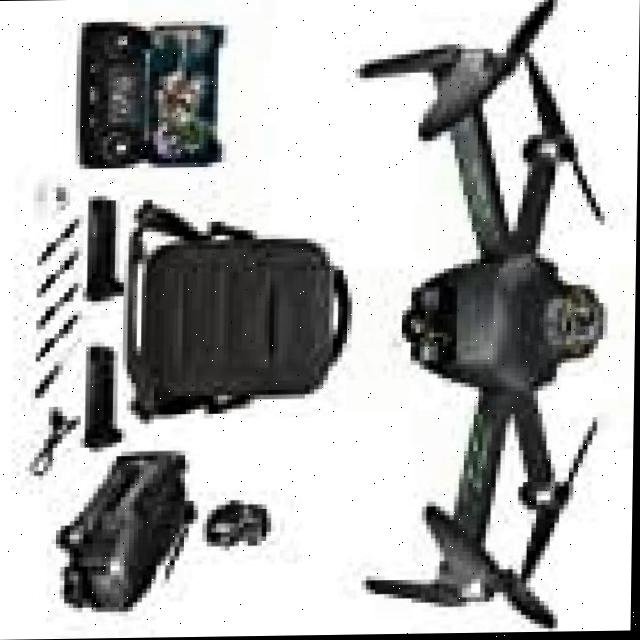drone: (339, 0, 640, 636)
